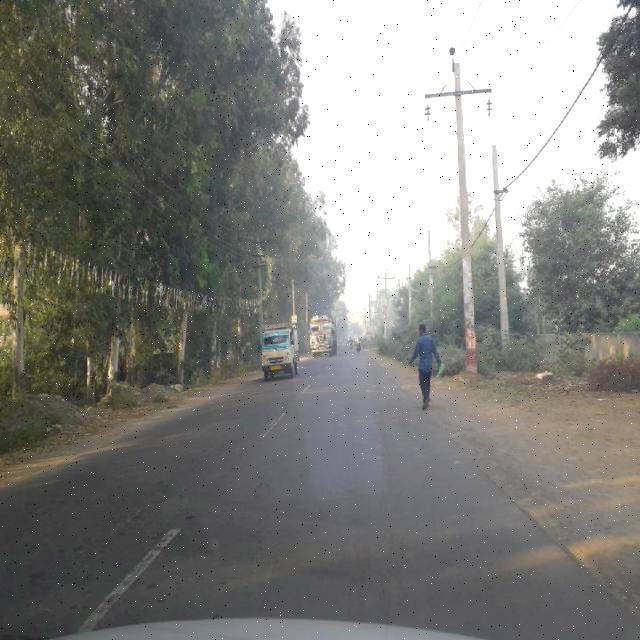D44: (78, 521, 182, 626)
